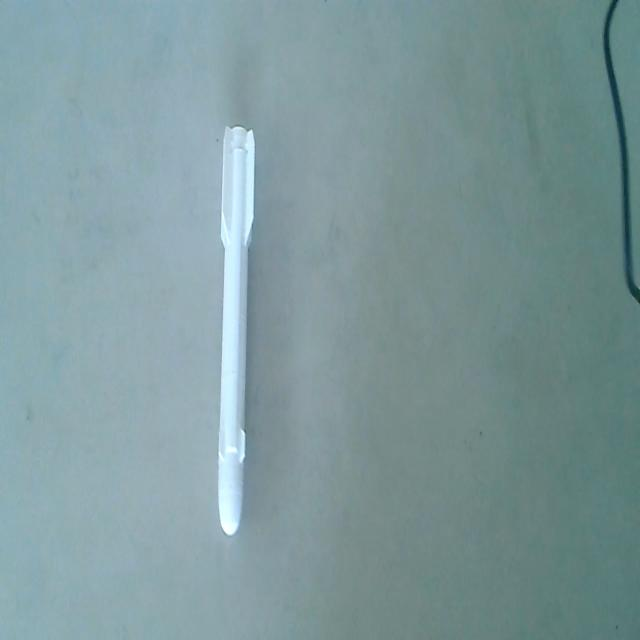Rocket: (218, 120, 250, 536)
